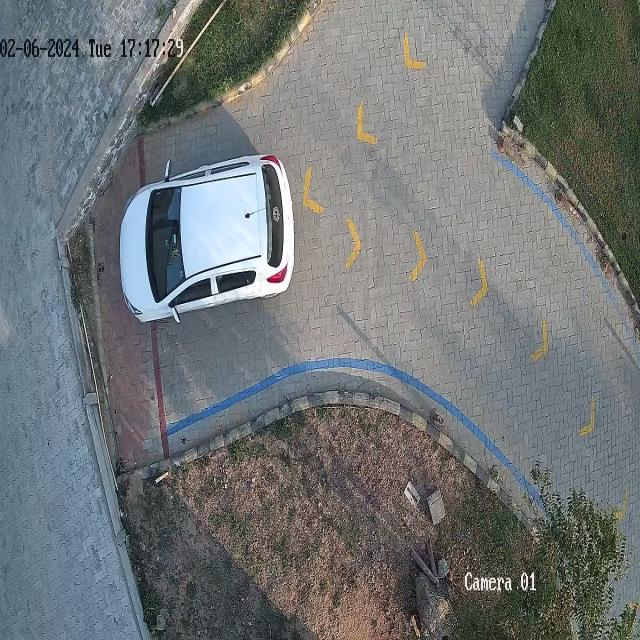car: (120, 156, 294, 323)
